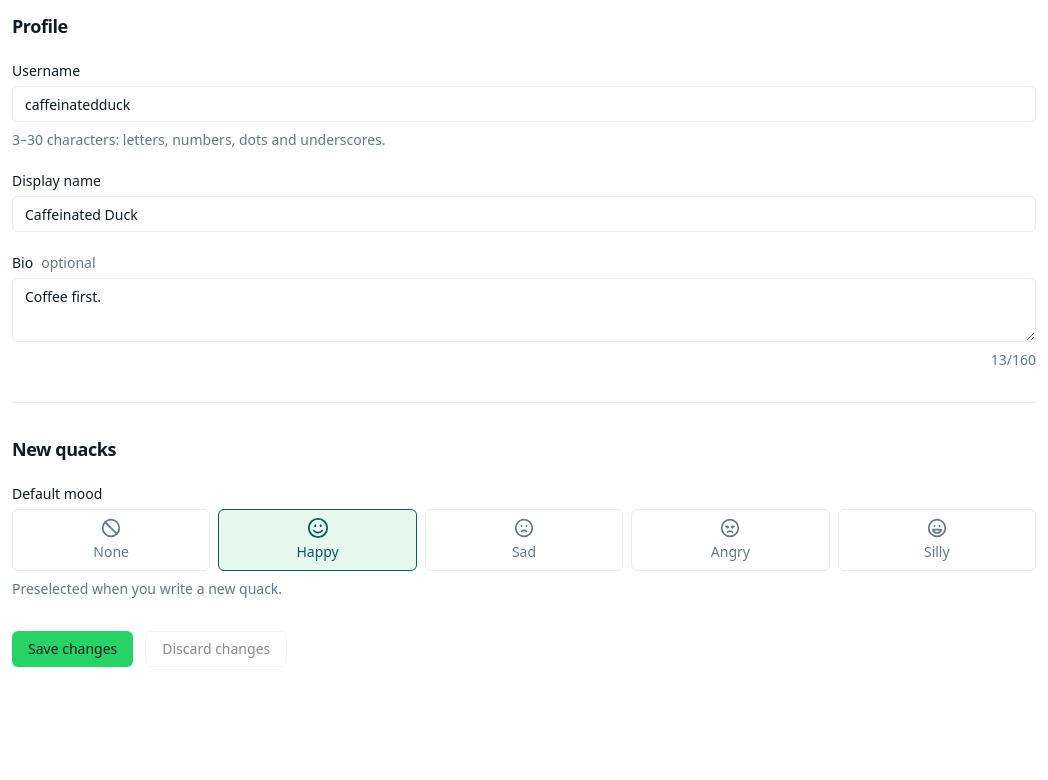
Test: SettingsForm › rejects the username ab before asking the server
Replace the text in the field labelled "Username" with "ab" at (524, 104), box [12, 86, 1036, 122]
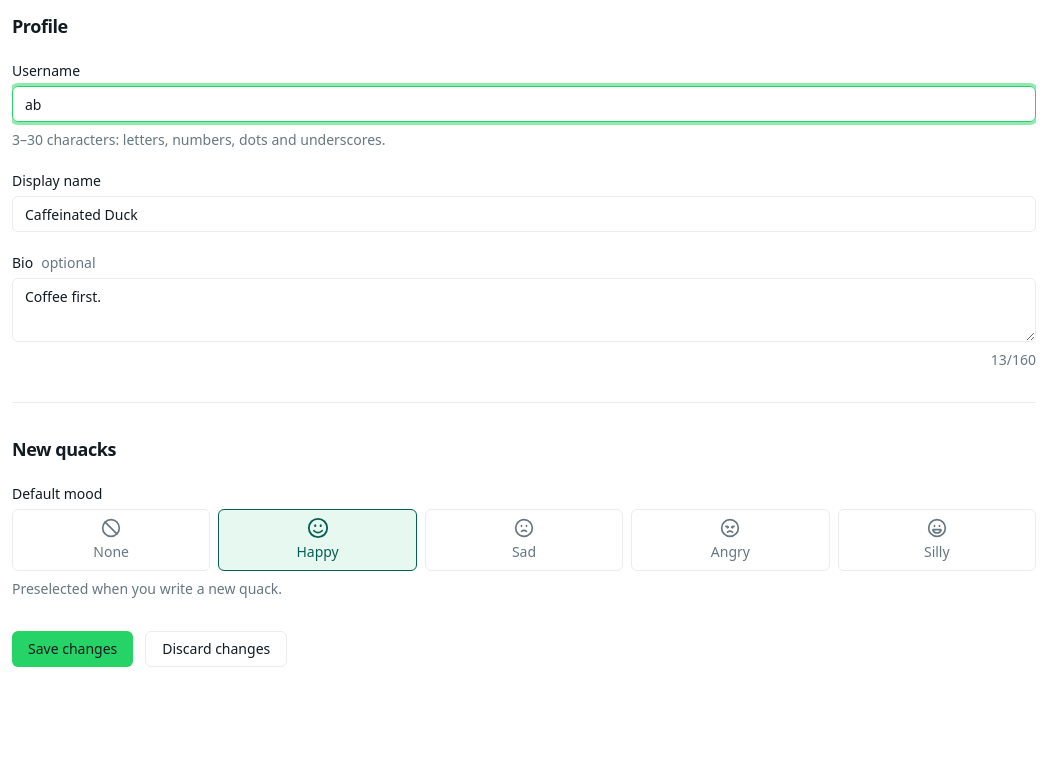
Click the button "Save changes" at (73, 649), box [12, 631, 133, 667]
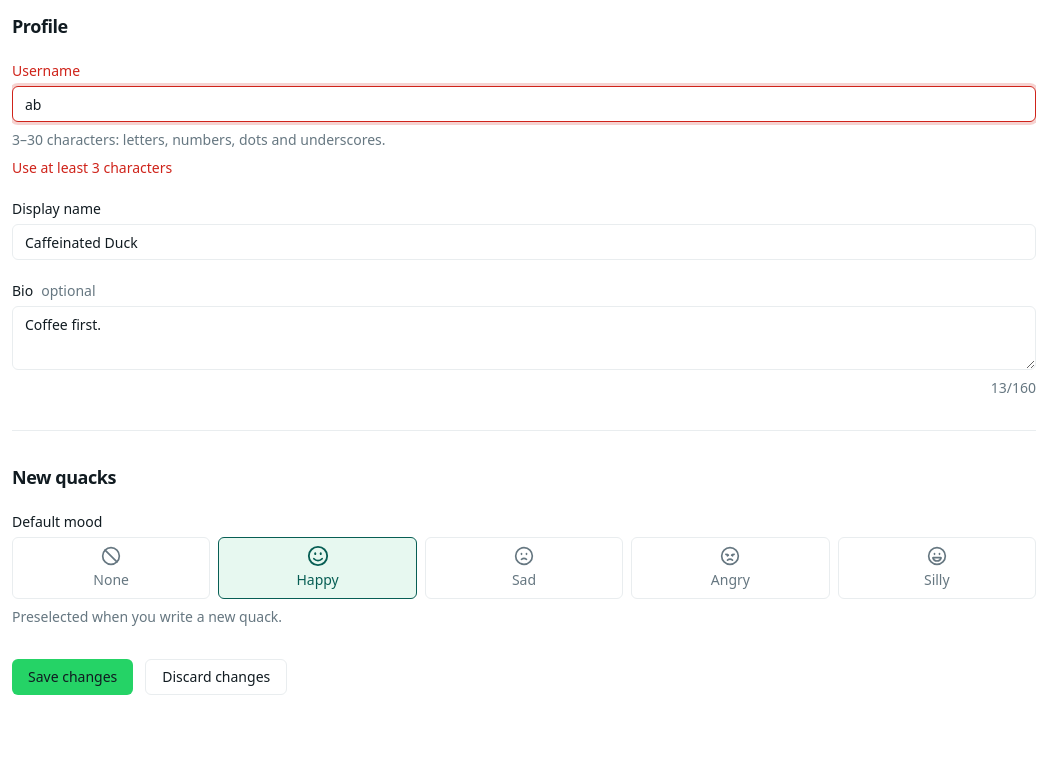
Now the text "Use at least 3 characters" is shown, box [12, 158, 172, 177]
